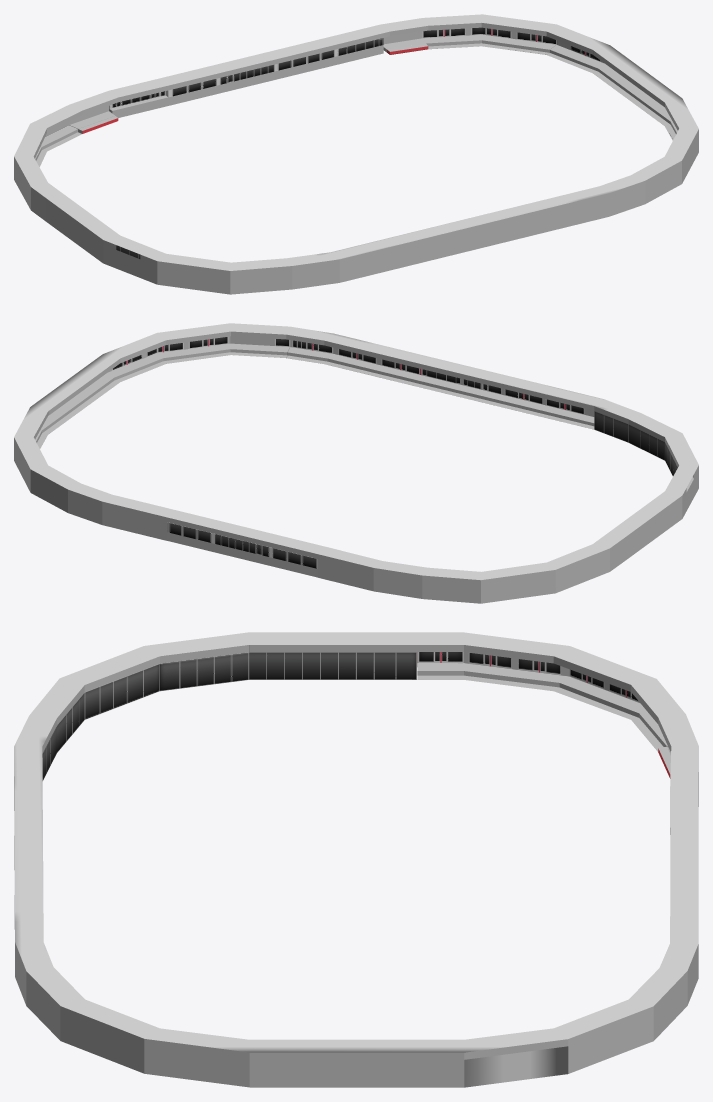
File: Low_Tribune_Ufa.FBX
3 views of the same model, one above another, from view 1: azimuth 30°, elevation 25°; view 2: azimuth 150°, elevation 25°; view 3: azimuth 270°, elevation 25° (orthographic). The views are drawn at different scales.
Visible parts, largest first — view 1: Low_Tribune_Ufa; view 2: Low_Tribune_Ufa; view 3: Low_Tribune_Ufa.
Part boxes in pixels (bbox=[...]): Low_Tribune_Ufa: bbox=[14, 14, 698, 294]; Low_Tribune_Ufa: bbox=[14, 323, 698, 603]; Low_Tribune_Ufa: bbox=[14, 632, 698, 1087].
Size of the model in its own units: 94.9 by 4.16 by 65.35.
